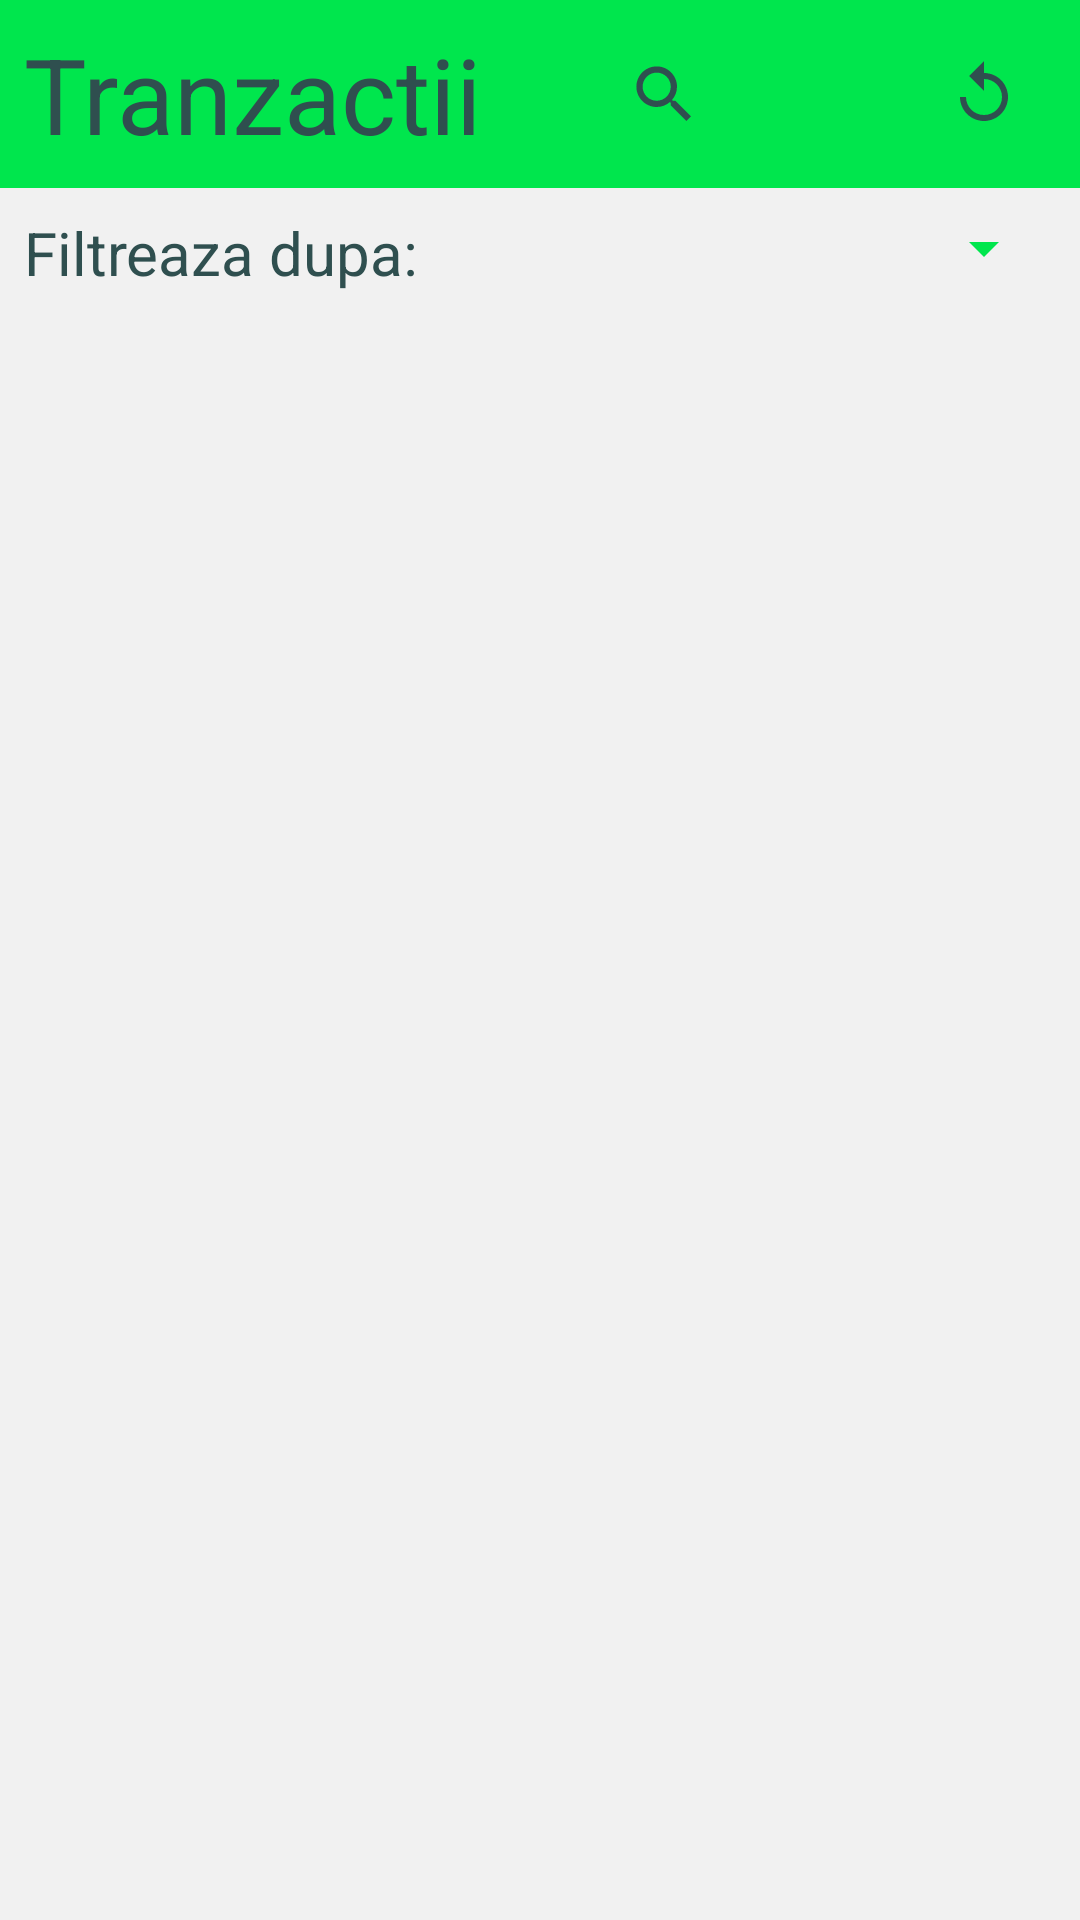

Point at icon controls on the screen. Image size 1080w x 1920h, points as point (x, y).
replay: point (984, 91)
